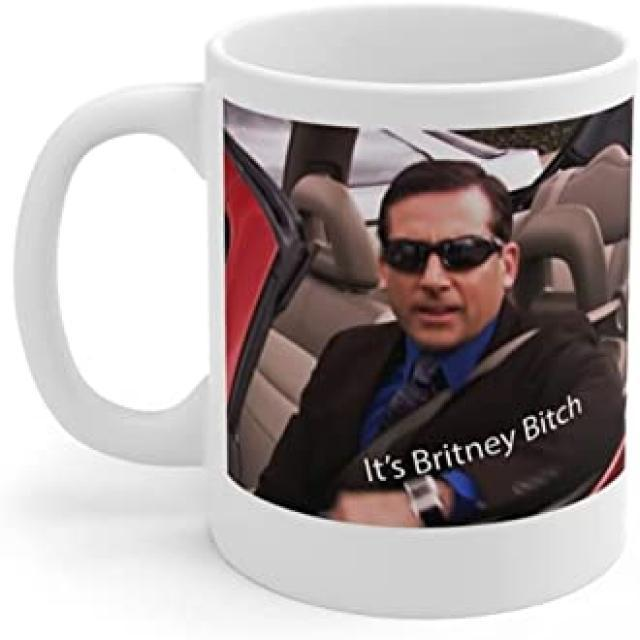Coffee Mug: (13, 3, 640, 624)
